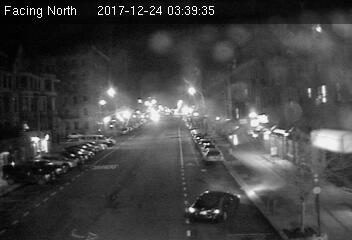car: (188, 188, 240, 223), (201, 148, 222, 162)
